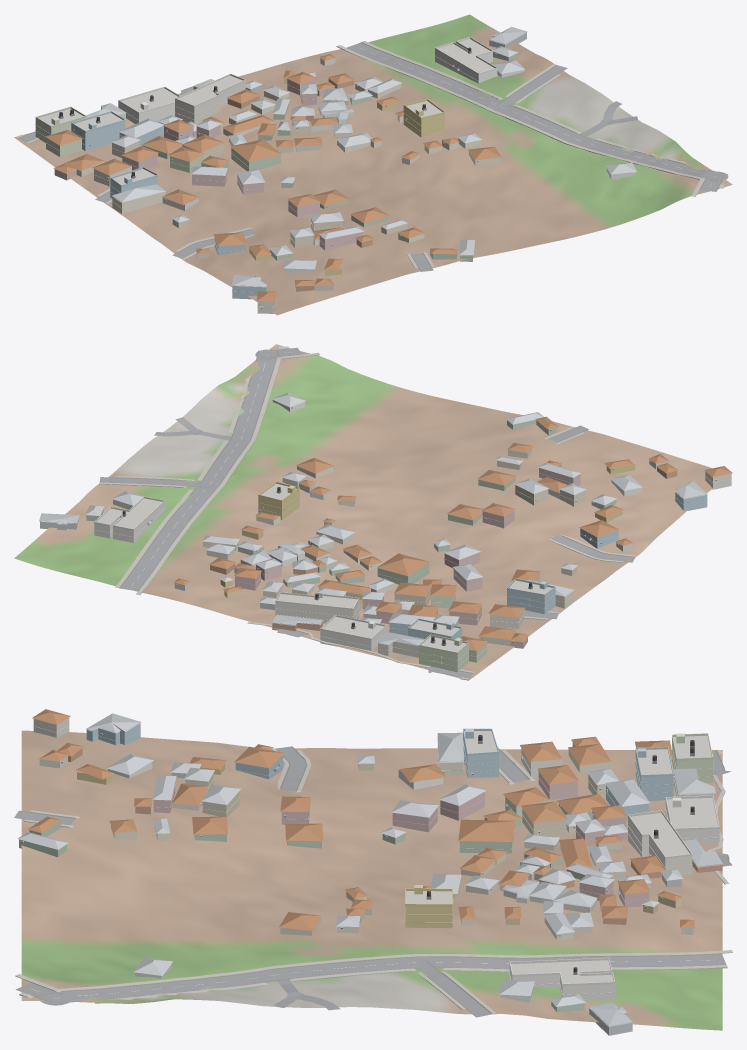
3 renders of one model, top to bottom at view 1: azimuth 30°, elevation 25°; view 2: azimuth 150°, elevation 25°; view 3: azimuth 270°, elevation 25°, orthographic. The views are drawn at different scales.
Parts seen in each view (by area): view 1: Terrain-col, Buildings-col, Roads-col, Details, Sidewalks-col; view 2: Terrain-col, Buildings-col, Roads-col, Details, Sidewalks-col; view 3: Terrain-col, Buildings-col, Roads-col, Sidewalks-col, Details.
Part boxes in pixels (x1,y1,x2,y2): Terrain-col: [14, 14, 732, 315]; Buildings-col: [35, 27, 636, 313]; Roads-col: [18, 42, 728, 271]; Details: [35, 37, 607, 308]; Sidewalks-col: [16, 41, 724, 268]; Terrain-col: [14, 344, 712, 680]; Buildings-col: [39, 392, 732, 672]; Roads-col: [99, 347, 634, 678]; Details: [94, 407, 731, 666]; Sidewalks-col: [99, 346, 635, 680]; Terrain-col: [21, 730, 722, 1030]; Buildings-col: [17, 709, 722, 1035]; Roads-col: [14, 746, 732, 1017]; Sidewalks-col: [15, 748, 732, 1013]; Details: [21, 724, 719, 995].
Size of the model in its own units: 271 by 22.22 by 263.
